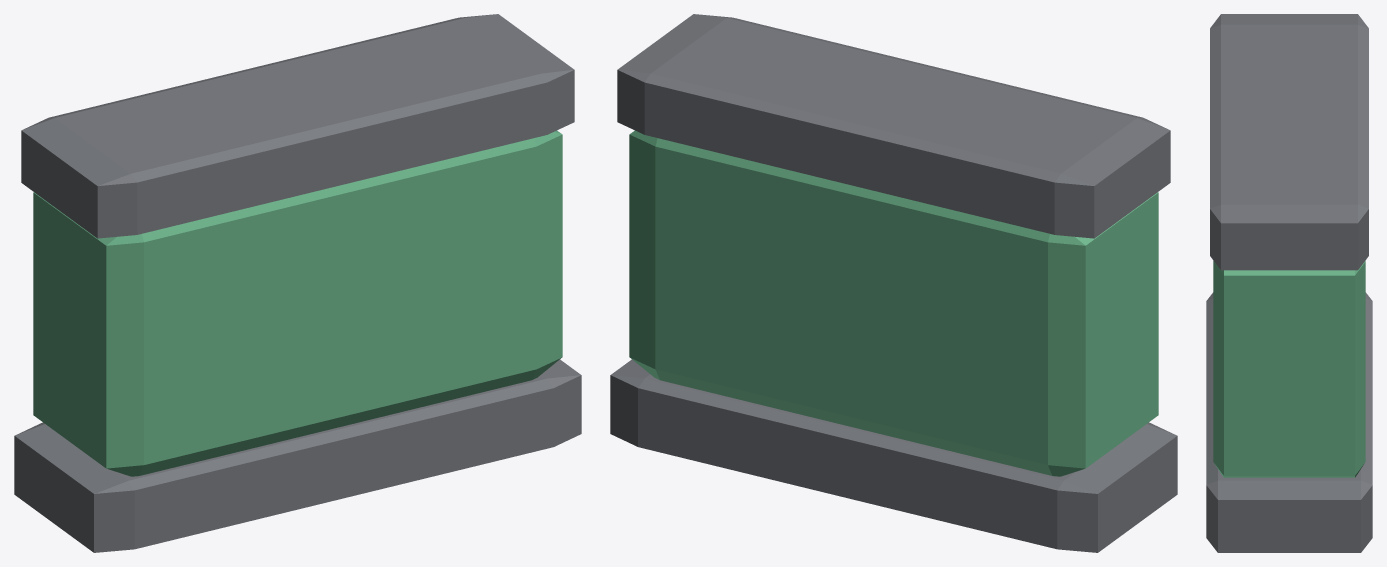
Rendered from b05_three_phase_transformer_rack.glb.
The picture shows the model from 3 angles, left to right: view 1: azimuth 30°, elevation 25°; view 2: azimuth 150°, elevation 25°; view 3: azimuth 270°, elevation 25°; orthographic projection. The views are drawn at different scales.
Parts seen in each view (by area): view 1: b05_three_phase_transformer_rack; view 2: b05_three_phase_transformer_rack; view 3: b05_three_phase_transformer_rack.
Boxes of the visible parts, x1=… form: b05_three_phase_transformer_rack: x1=14, y1=14, x2=581, y2=552; b05_three_phase_transformer_rack: x1=610, y1=14, x2=1177, y2=552; b05_three_phase_transformer_rack: x1=1206, y1=14, x2=1372, y2=552.
Bounding box in the file's own units: 2.25 × 1.65 × 0.74.
